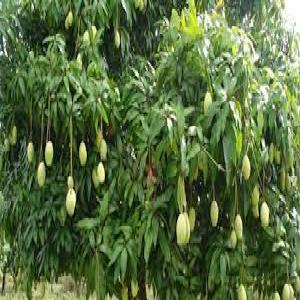Tree: (4, 2, 297, 294)
